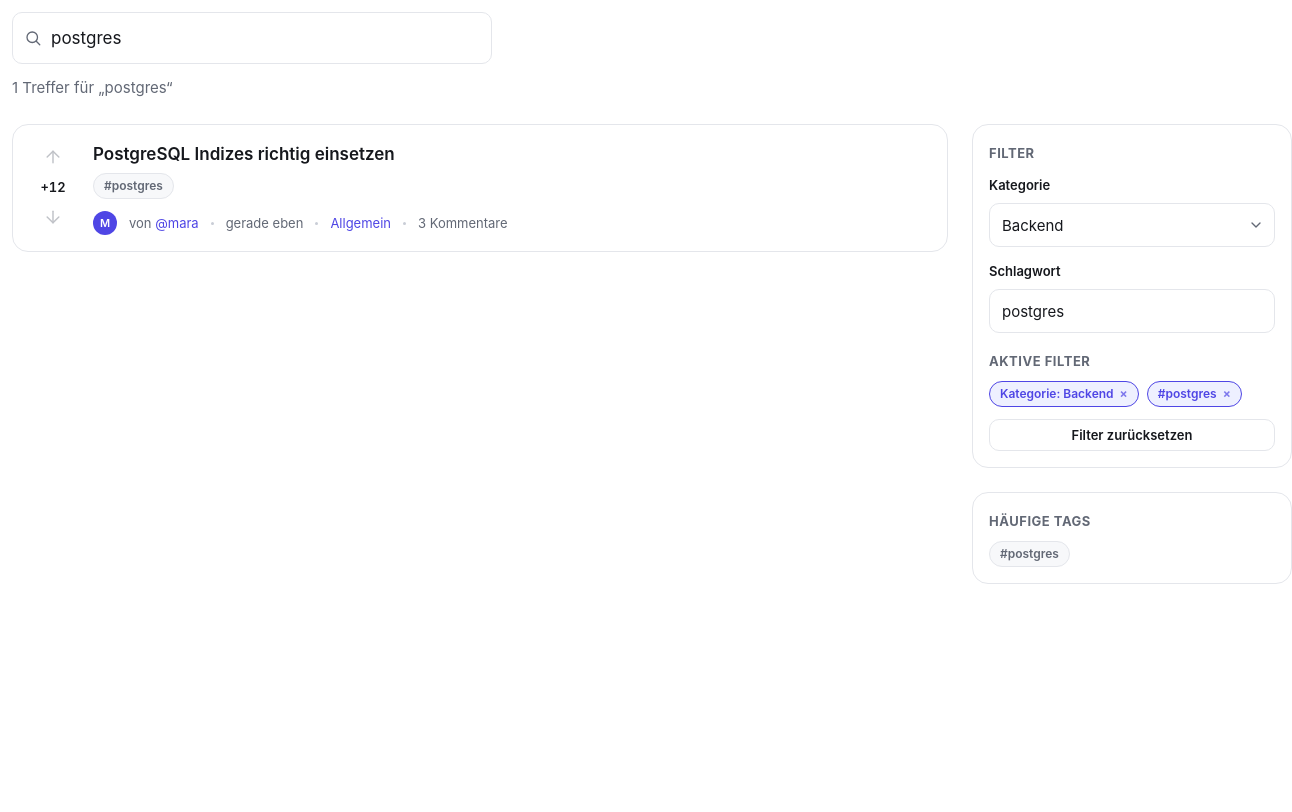
Test: forum search screen › resets the active filters
Check: the button "Kategorie: Backend ×" is shown, box top-left (989, 381), bottom-right (1139, 407)
Step 1. Click the button "Filter zurücksetzen" → (1132, 435), box top-left (989, 419), bottom-right (1275, 451)
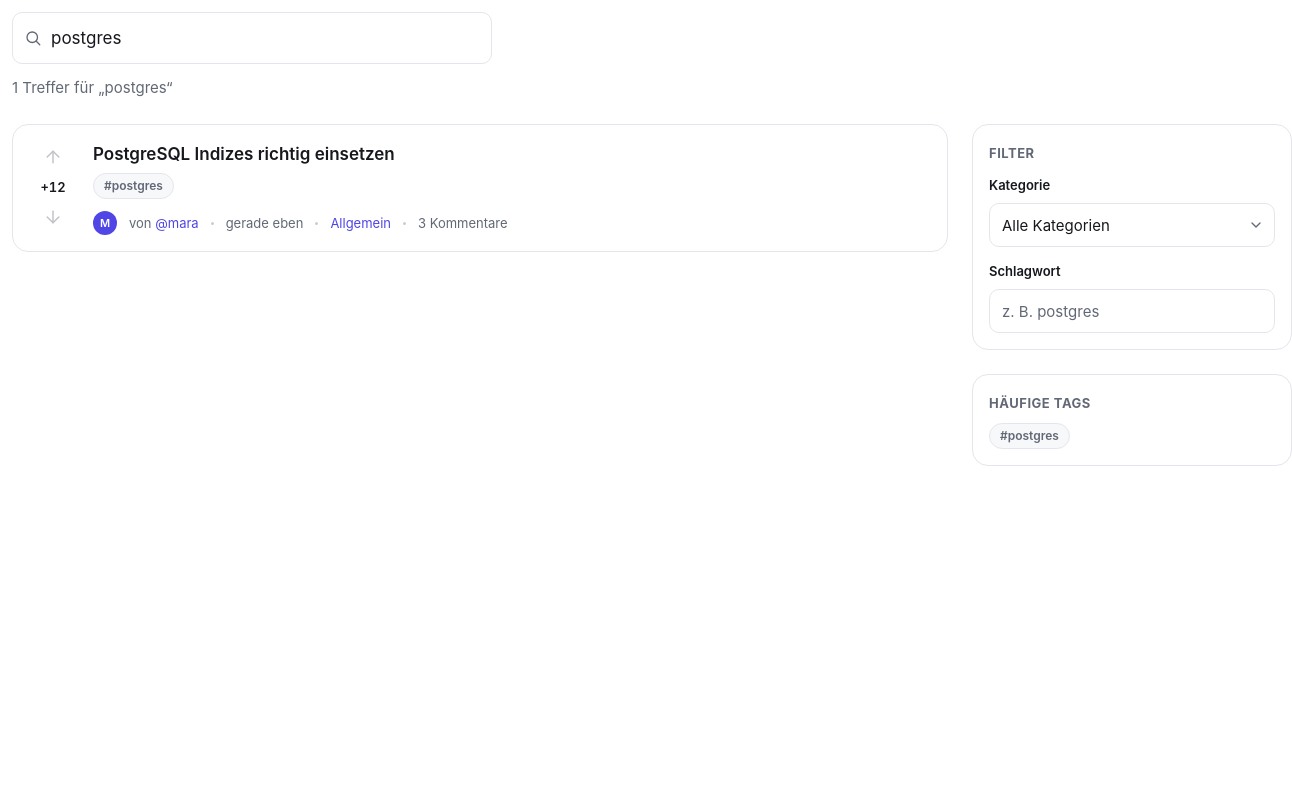
Check: the button "Kategorie: Backend" is gone
